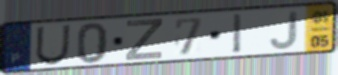0: (75, 21, 110, 65)
7: (172, 16, 204, 57)
I: (232, 12, 244, 56)
J: (268, 10, 300, 51)
U: (33, 23, 73, 67)
Z: (123, 17, 165, 62)
